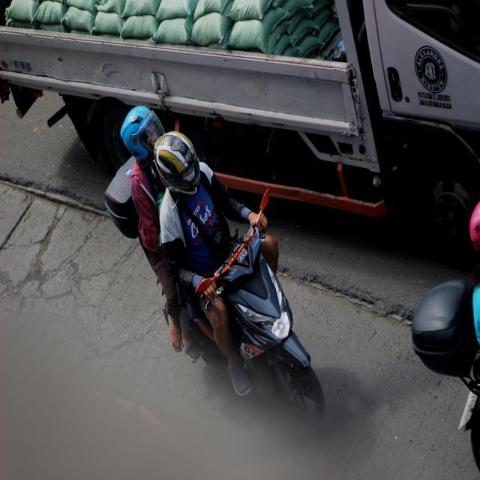motorcycle: (104, 104, 328, 428)
truck: (0, 0, 480, 216)
